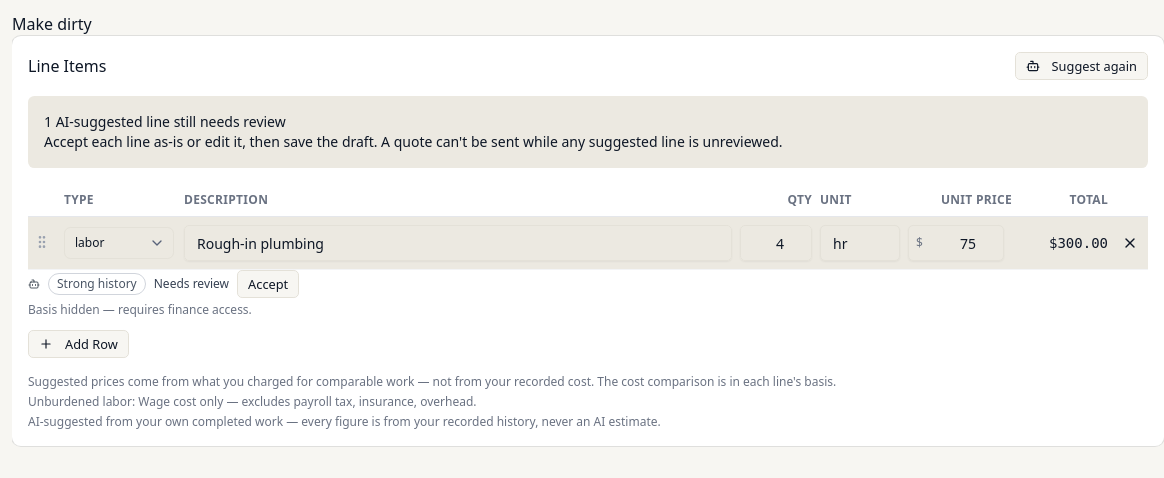
Test case: line items table › clicking Accept sets that line's review_state to accepted with zero network requests
Click the button with test id "accept-line-0": click(268, 284) [237, 270, 299, 298]
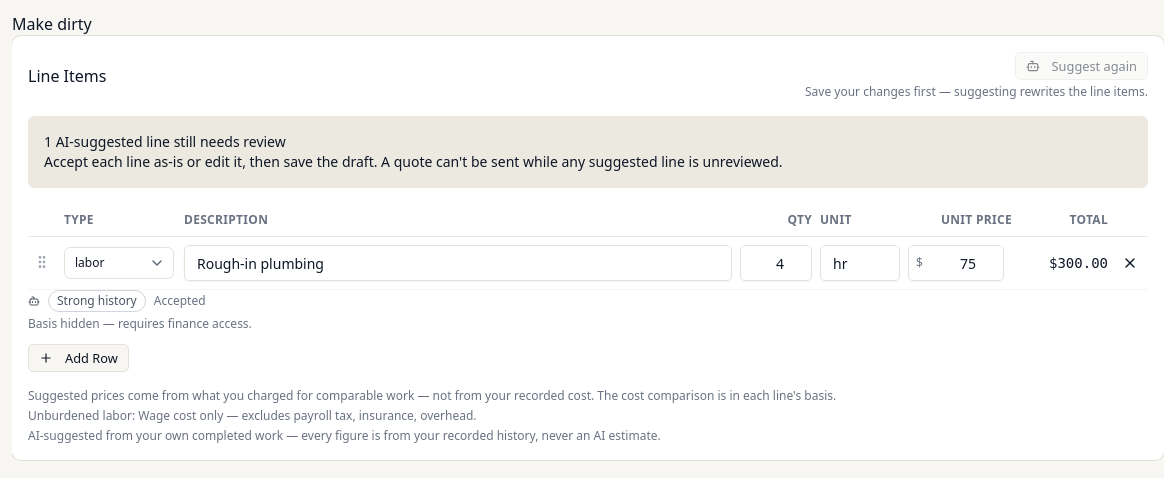
Expected: the text with test id "review-marker-0" reads "Accepted", [154, 292, 206, 309]
